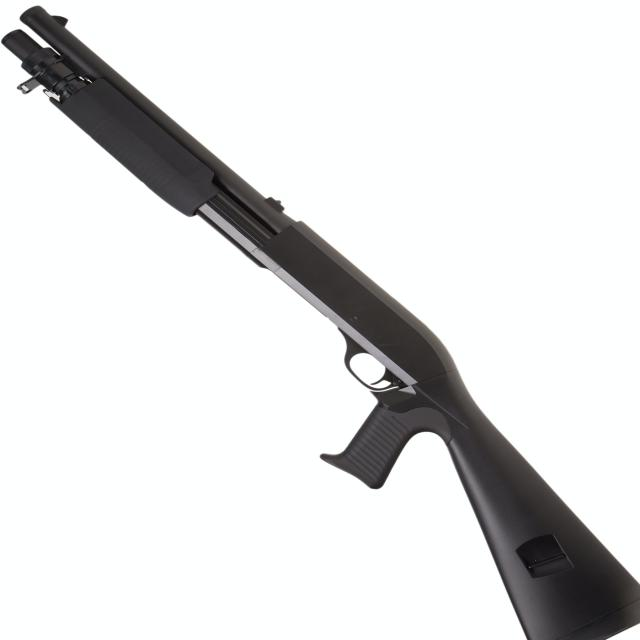Weapon: (2, 7, 640, 640)
